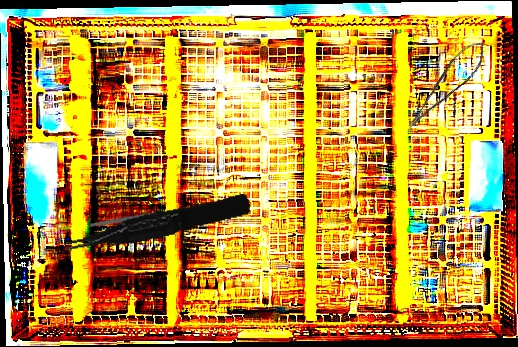Micro Scissor: (393, 35, 496, 132)
Needle Holder: (89, 184, 205, 246)
Tissue Forceps: (60, 193, 253, 255)
